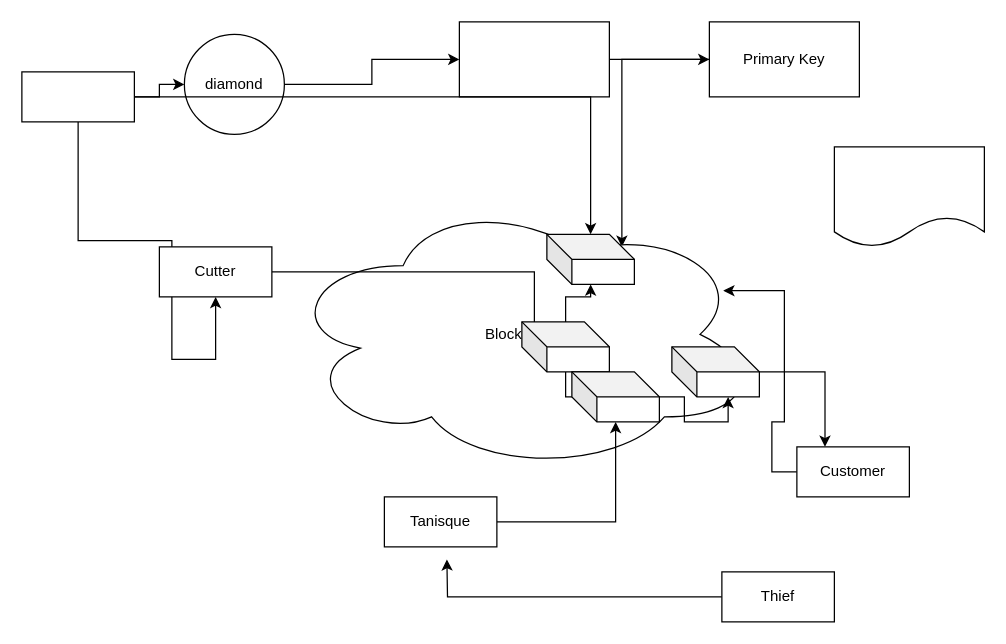
The diagram is 1006 pixels wide and 644 high, and some of its shapes have lost their labels. Each missing label, with the centre of its shape:
"Density,Carot, Hradness" belongs at (x=533, y=59).
"Minning" belongs at (x=77, y=96).
"Oracle APP" belongs at (x=908, y=196).
